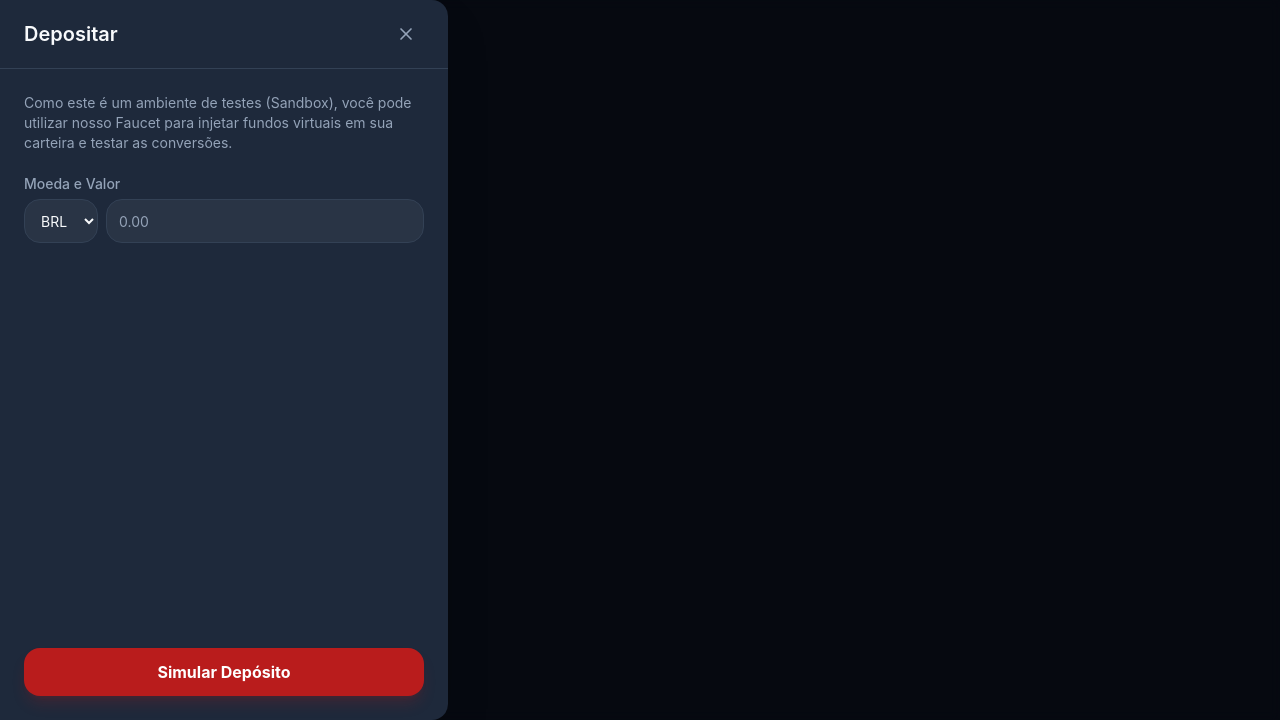
DepositDrawer › should display API error when submit fails
The image size is (1280, 720).
Type "500" into the field with placeholder "0.00" at (265, 221), box [106,199,424,243]
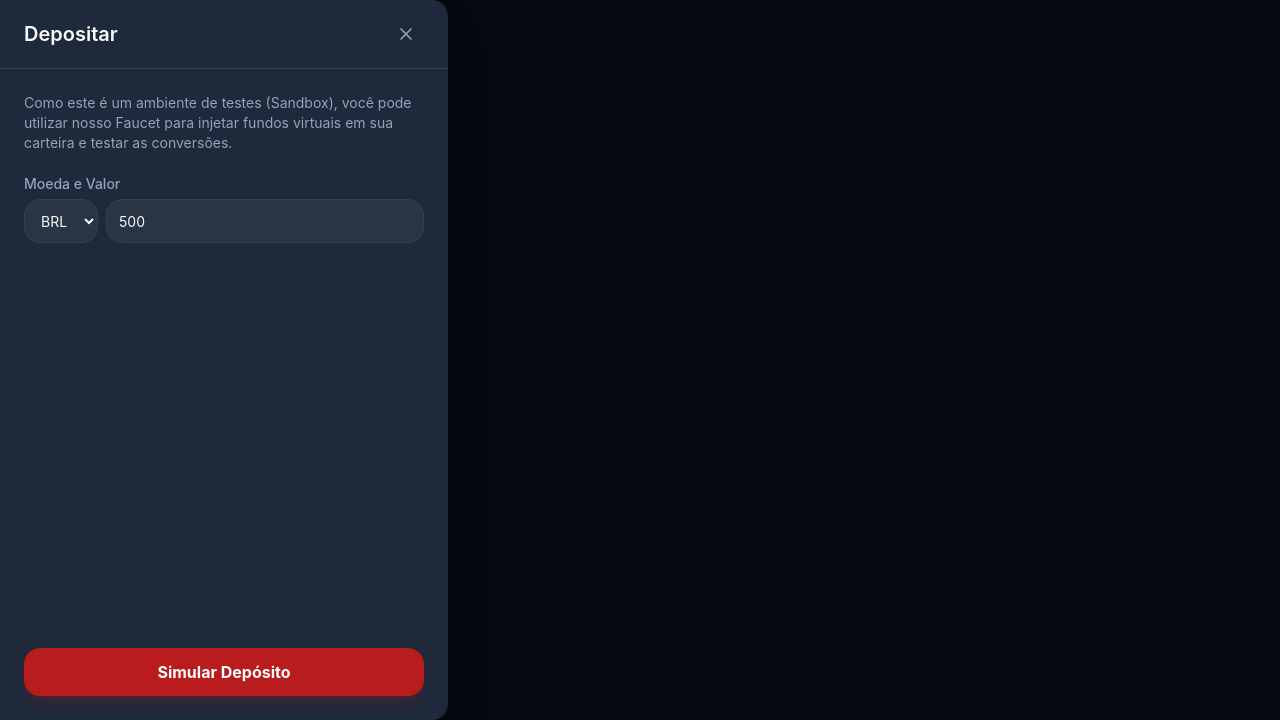
Click the button "Simular Depósito" at (224, 672), box [24,648,424,696]
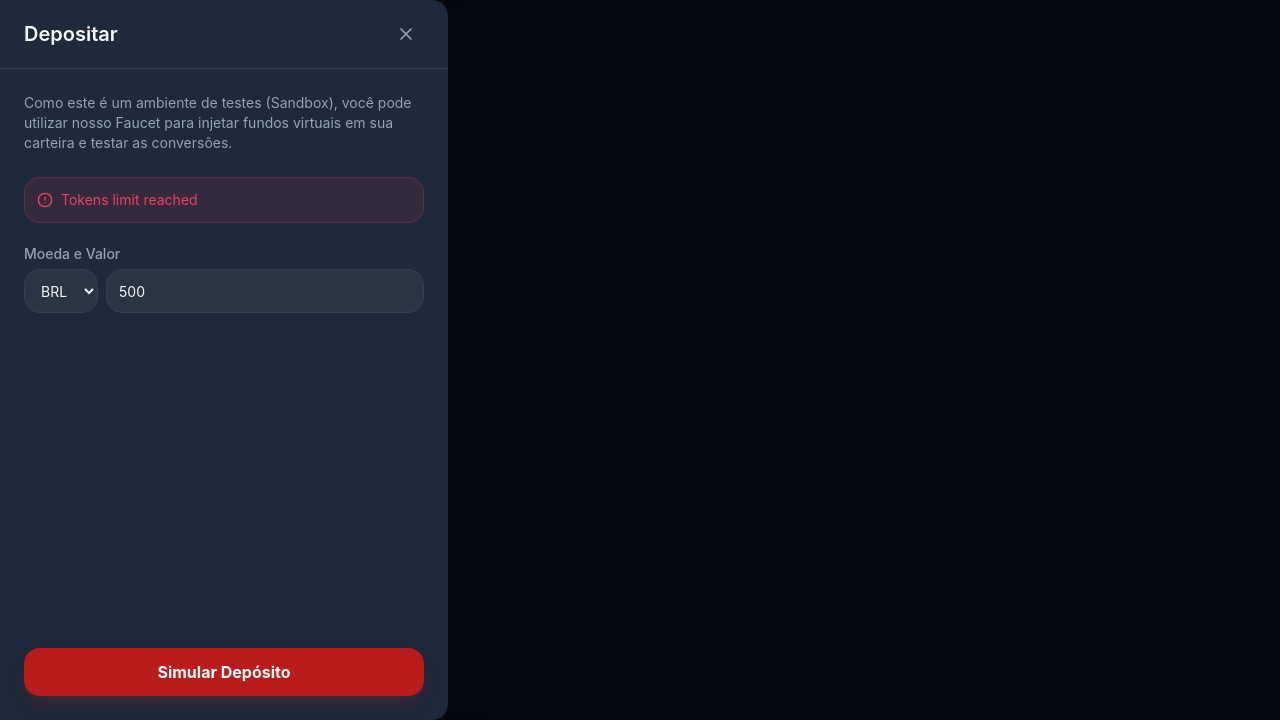
Now the text "Tokens limit reached" is shown, box [61,190,198,210]
